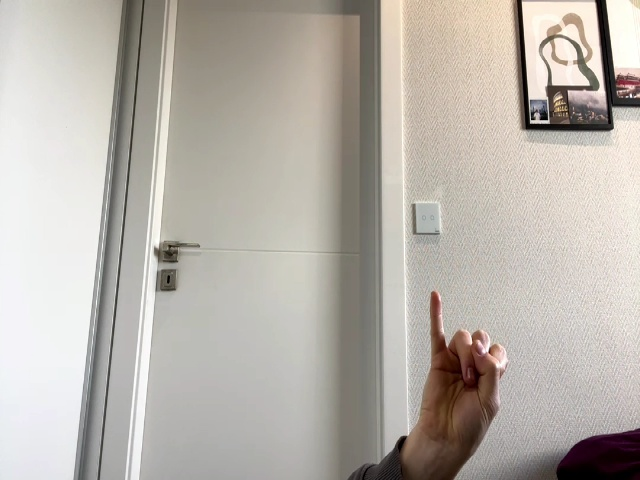I: (421, 291, 508, 463)
